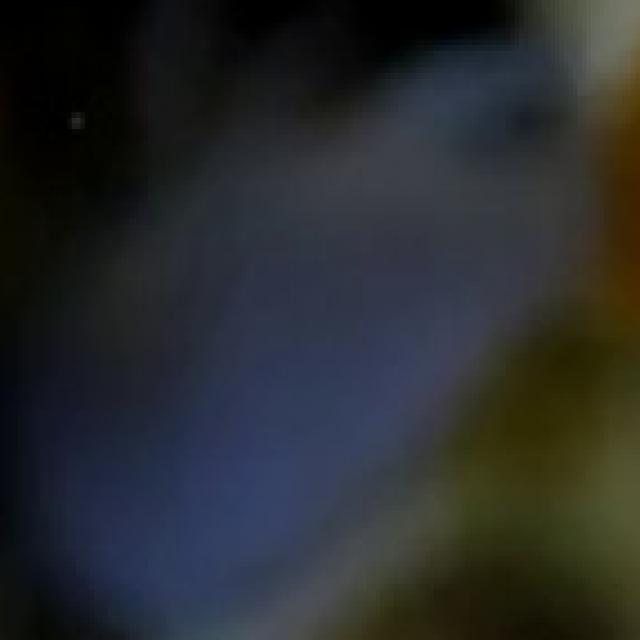fish: (1, 0, 636, 635)
